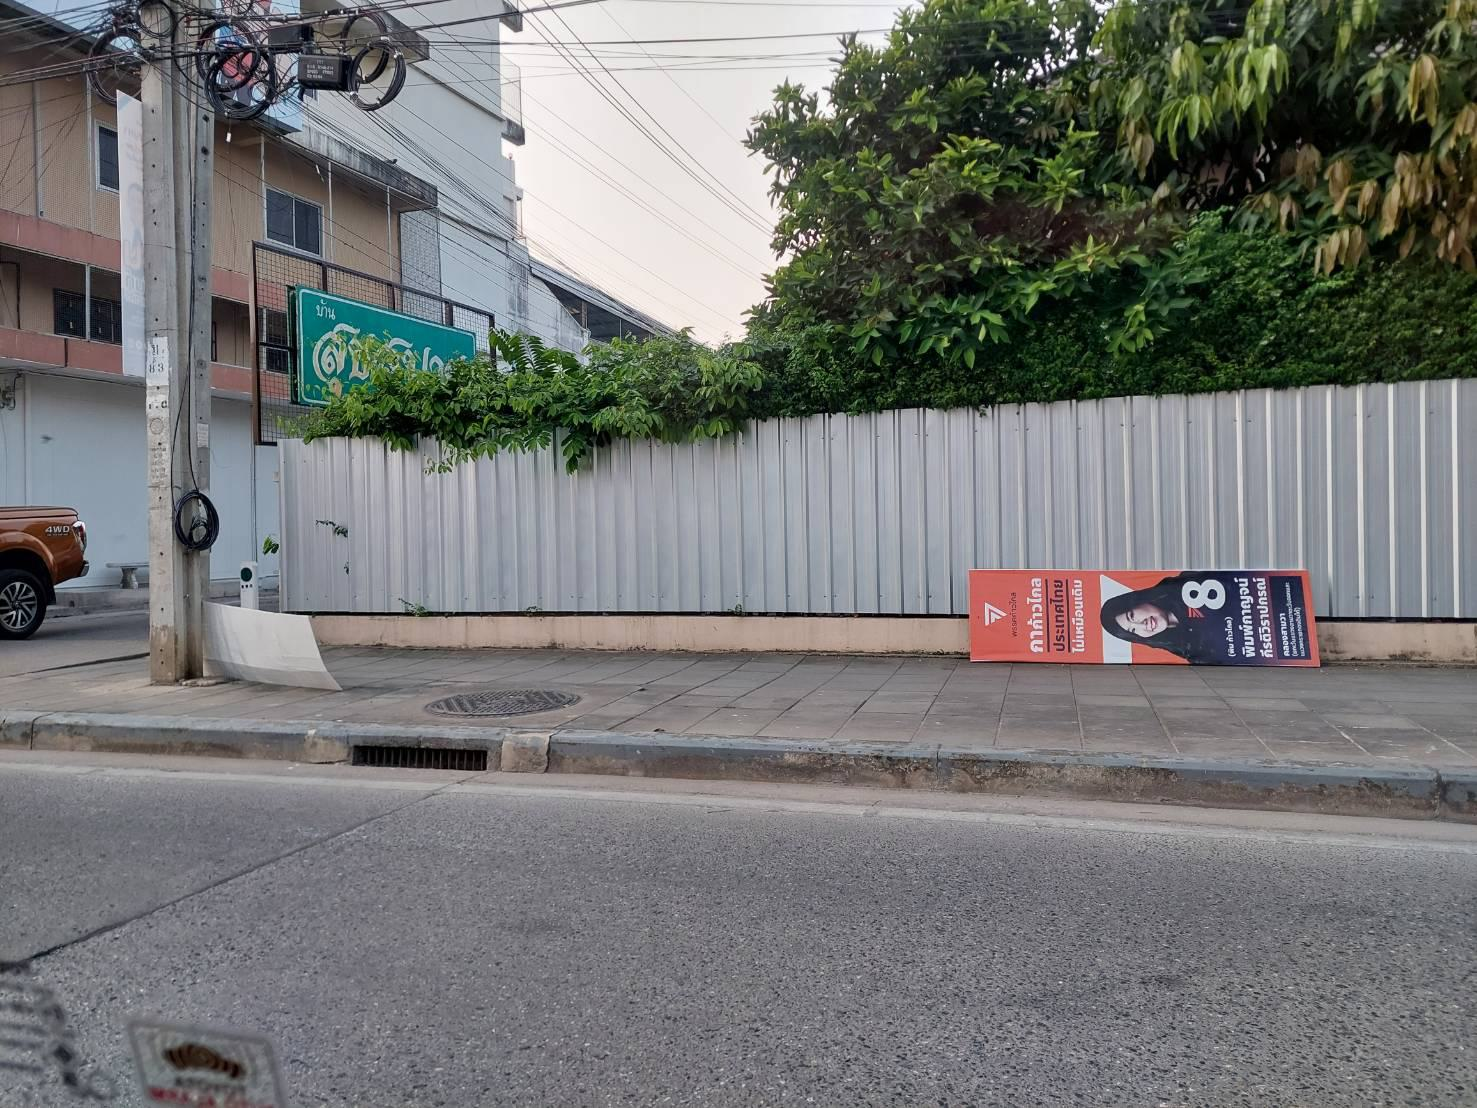Banner: (968, 568, 1321, 663)
